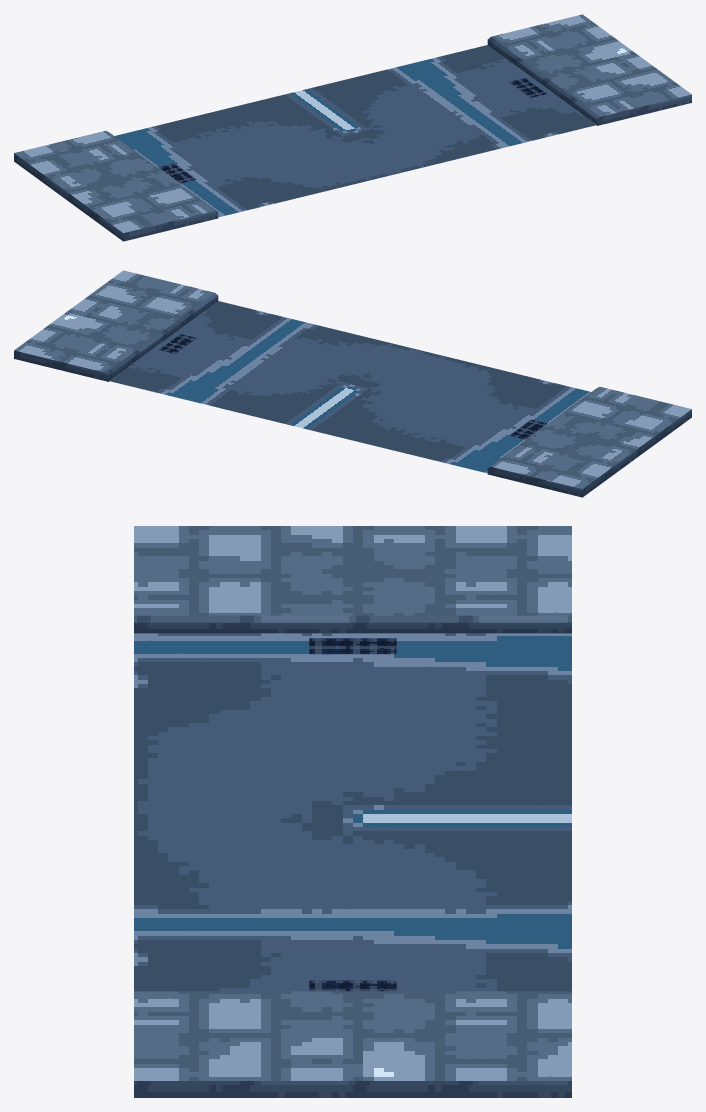
Rendered from cystreet.road__short.glb.
3 renders of one model, top to bottom at view 1: azimuth 30°, elevation 25°; view 2: azimuth 150°, elevation 25°; view 3: azimuth 270°, elevation 25°, orthographic. The views are drawn at different scales.
Visible parts, largest first — view 1: kit_shell_road, kit_walks, kit_card_paint; view 2: kit_shell_road, kit_walks, kit_card_paint; view 3: kit_shell_road, kit_walks, kit_card_paint.
Part boxes in pixels (bbox=[...]): kit_shell_road: bbox=[115, 45, 596, 217]; kit_walks: bbox=[14, 14, 691, 241]; kit_card_paint: bbox=[159, 78, 546, 183]; kit_shell_road: bbox=[109, 301, 590, 473]; kit_walks: bbox=[14, 270, 691, 497]; kit_card_paint: bbox=[159, 334, 546, 439]; kit_shell_road: bbox=[134, 633, 571, 991]; kit_walks: bbox=[134, 526, 571, 1097]; kit_card_paint: bbox=[309, 638, 396, 991].
Bounding box in the file's own units: 12 × 0.17 × 4.
4 materials, 4 textured.
